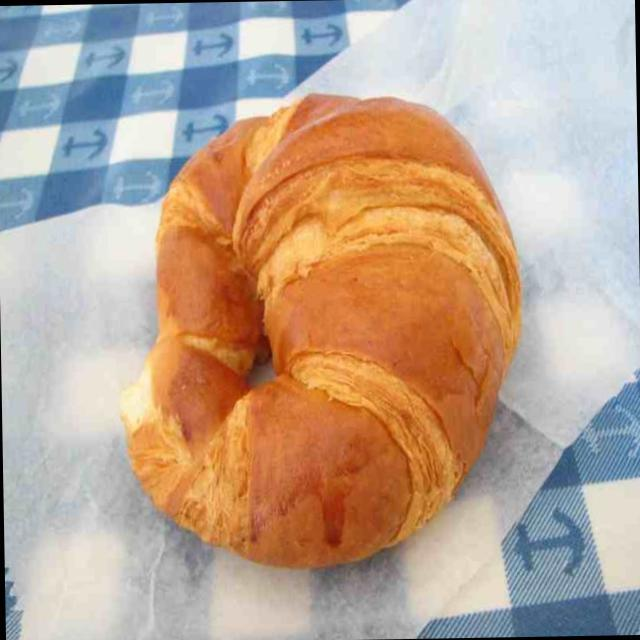Croissant: (111, 69, 535, 582)
